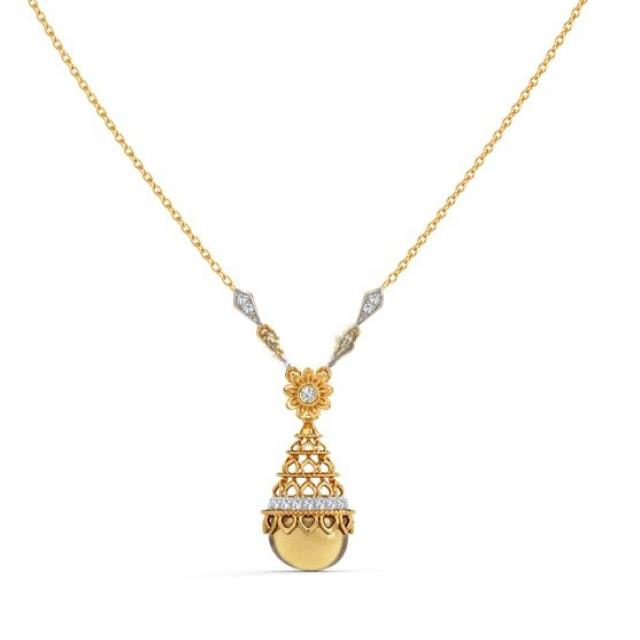missing gem: (259, 327, 288, 363), (342, 329, 360, 352)
